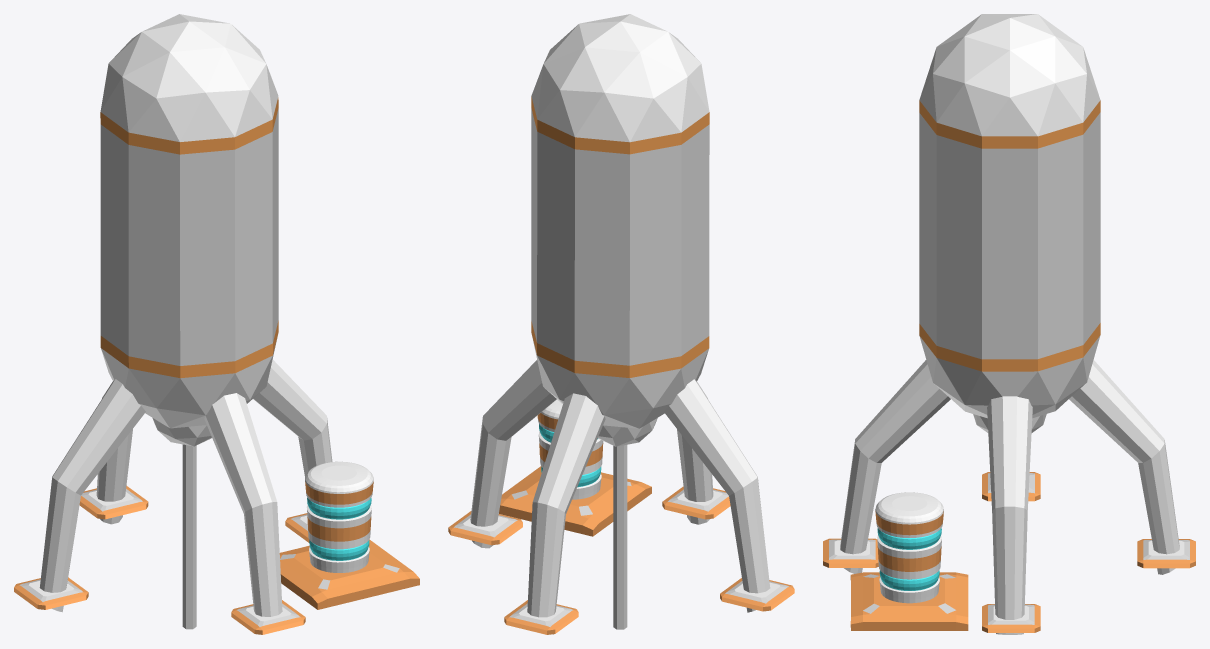
The model's file is extract2.fbx.
The picture shows the model from 3 angles, left to right: view 1: azimuth 30°, elevation 25°; view 2: azimuth 150°, elevation 25°; view 3: azimuth 270°, elevation 25°; orthographic projection.
Parts seen in each view (by area): view 1: capsule.001; view 2: capsule.001; view 3: capsule.001.
Boxes of the visible parts, left/top/right/bottom form: capsule.001: left=14, top=14, right=419, bottom=634; capsule.001: left=448, top=14, right=794, bottom=634; capsule.001: left=823, top=14, right=1195, bottom=634.
Size of the model in its own units: 1075 by 1929 by 1081.
